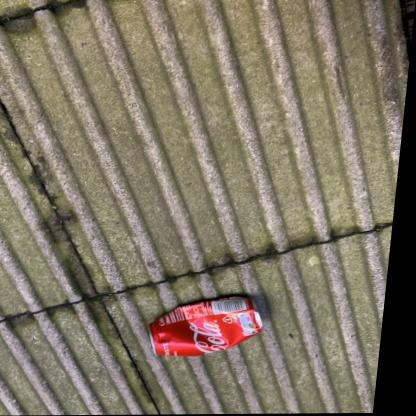trash: (150, 295, 261, 355)
